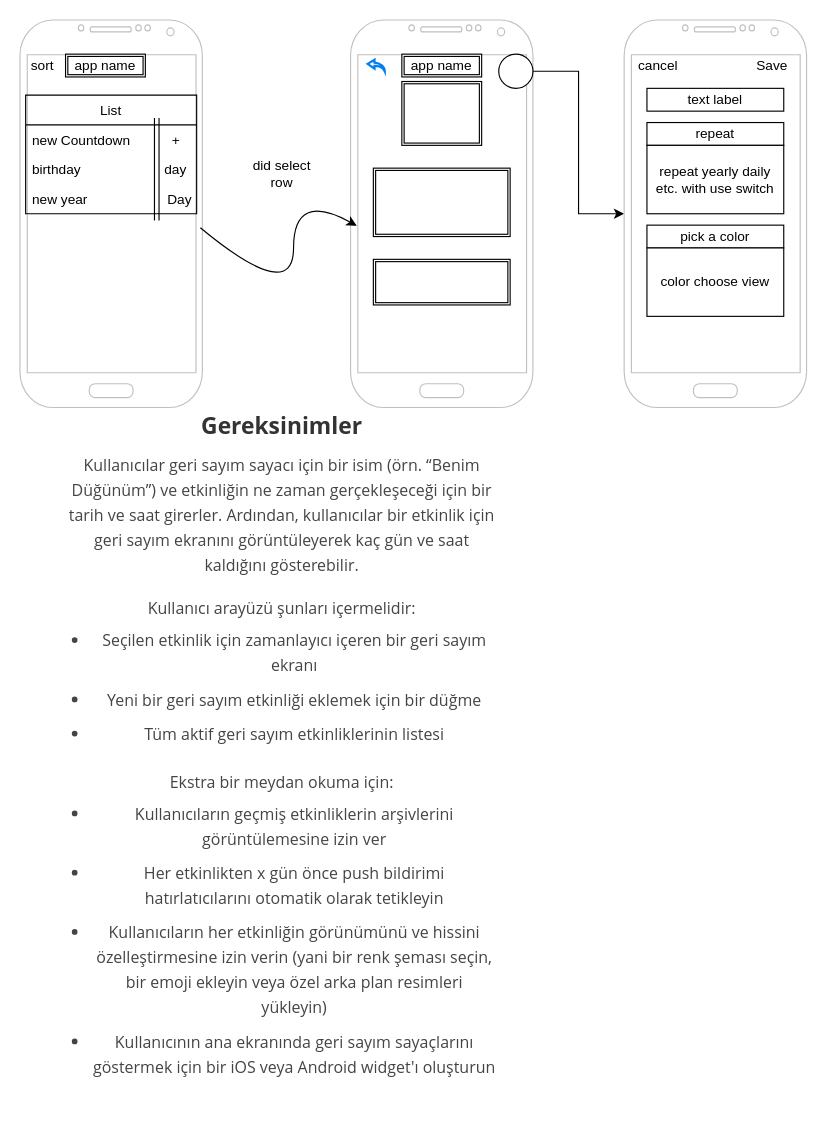
Image size: 827x1122. Some labels were removed from this diagram. The centre of each missing label's shape, as x and y in pixels:
edit: (x=515, y=70)
etiket: tarih tekrarlanma zamanı: (x=441, y=202)
geri sayım: (x=441, y=281)
Resim: (x=441, y=112)
